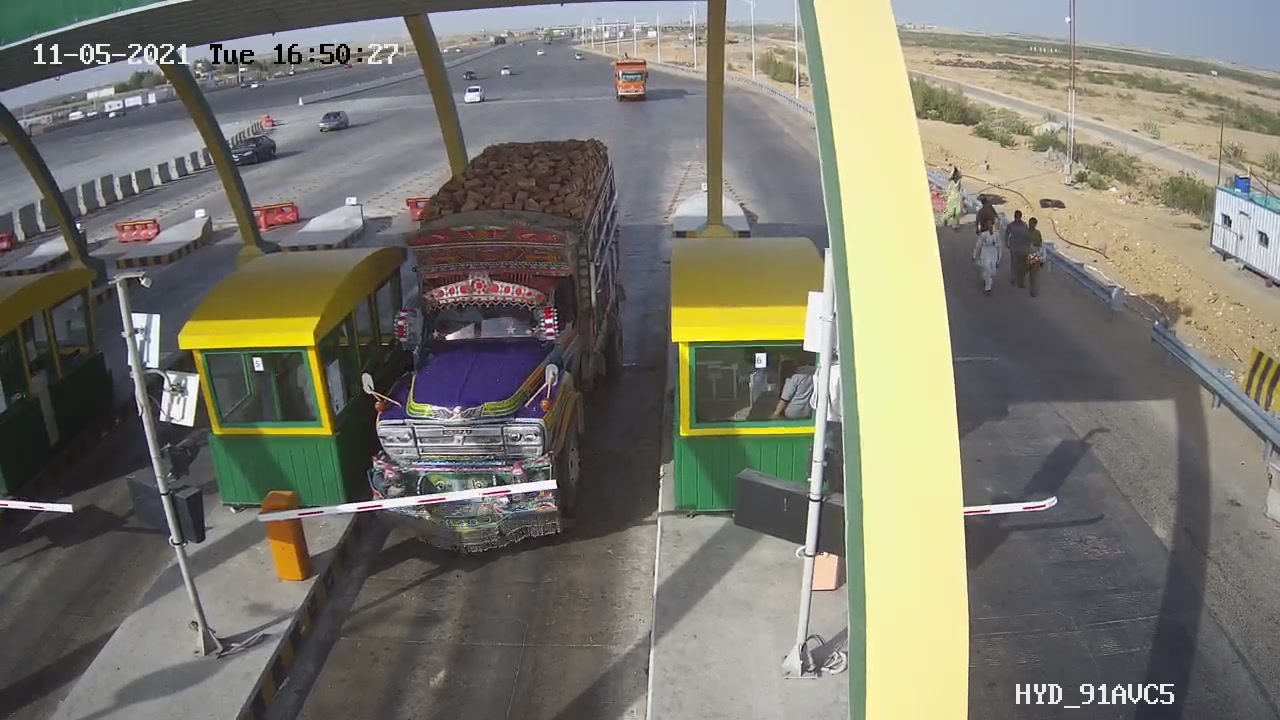F5: (341, 125, 654, 575)
